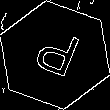P_S: (27, 25, 83, 85)
